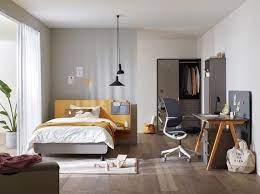Bed: (38, 98, 119, 156)
Chair: (157, 96, 203, 165)
Closet: (155, 52, 205, 129)
Table: (194, 109, 250, 172)
